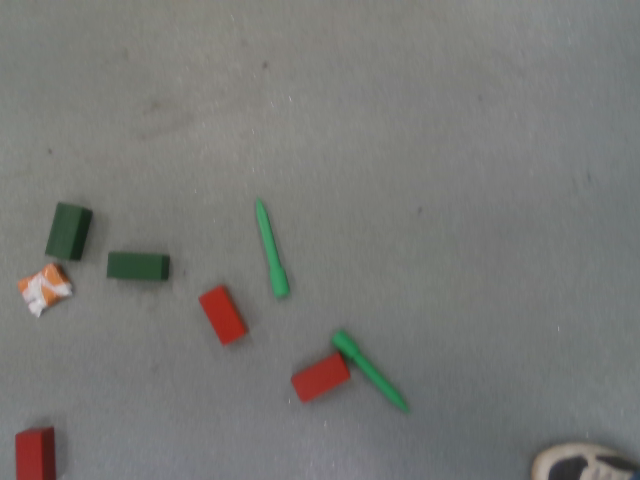Probe: (329, 328, 411, 416), (251, 195, 293, 300)
